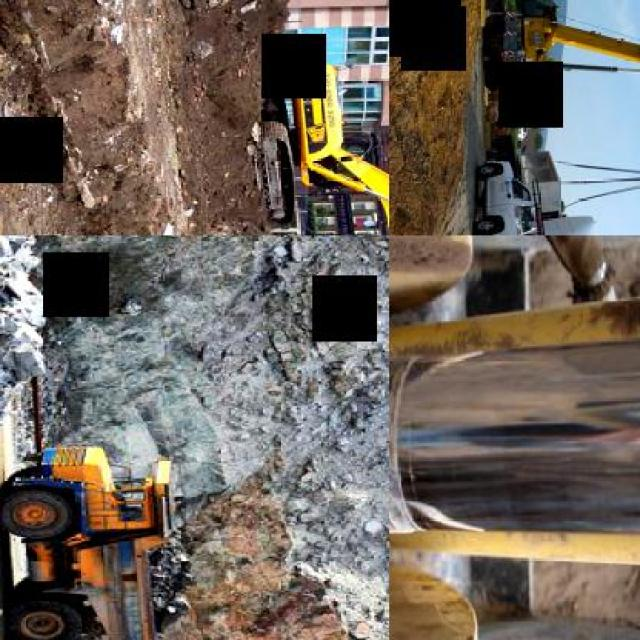dump_truck: (0, 442, 191, 638)
excavator: (210, 58, 388, 234)
